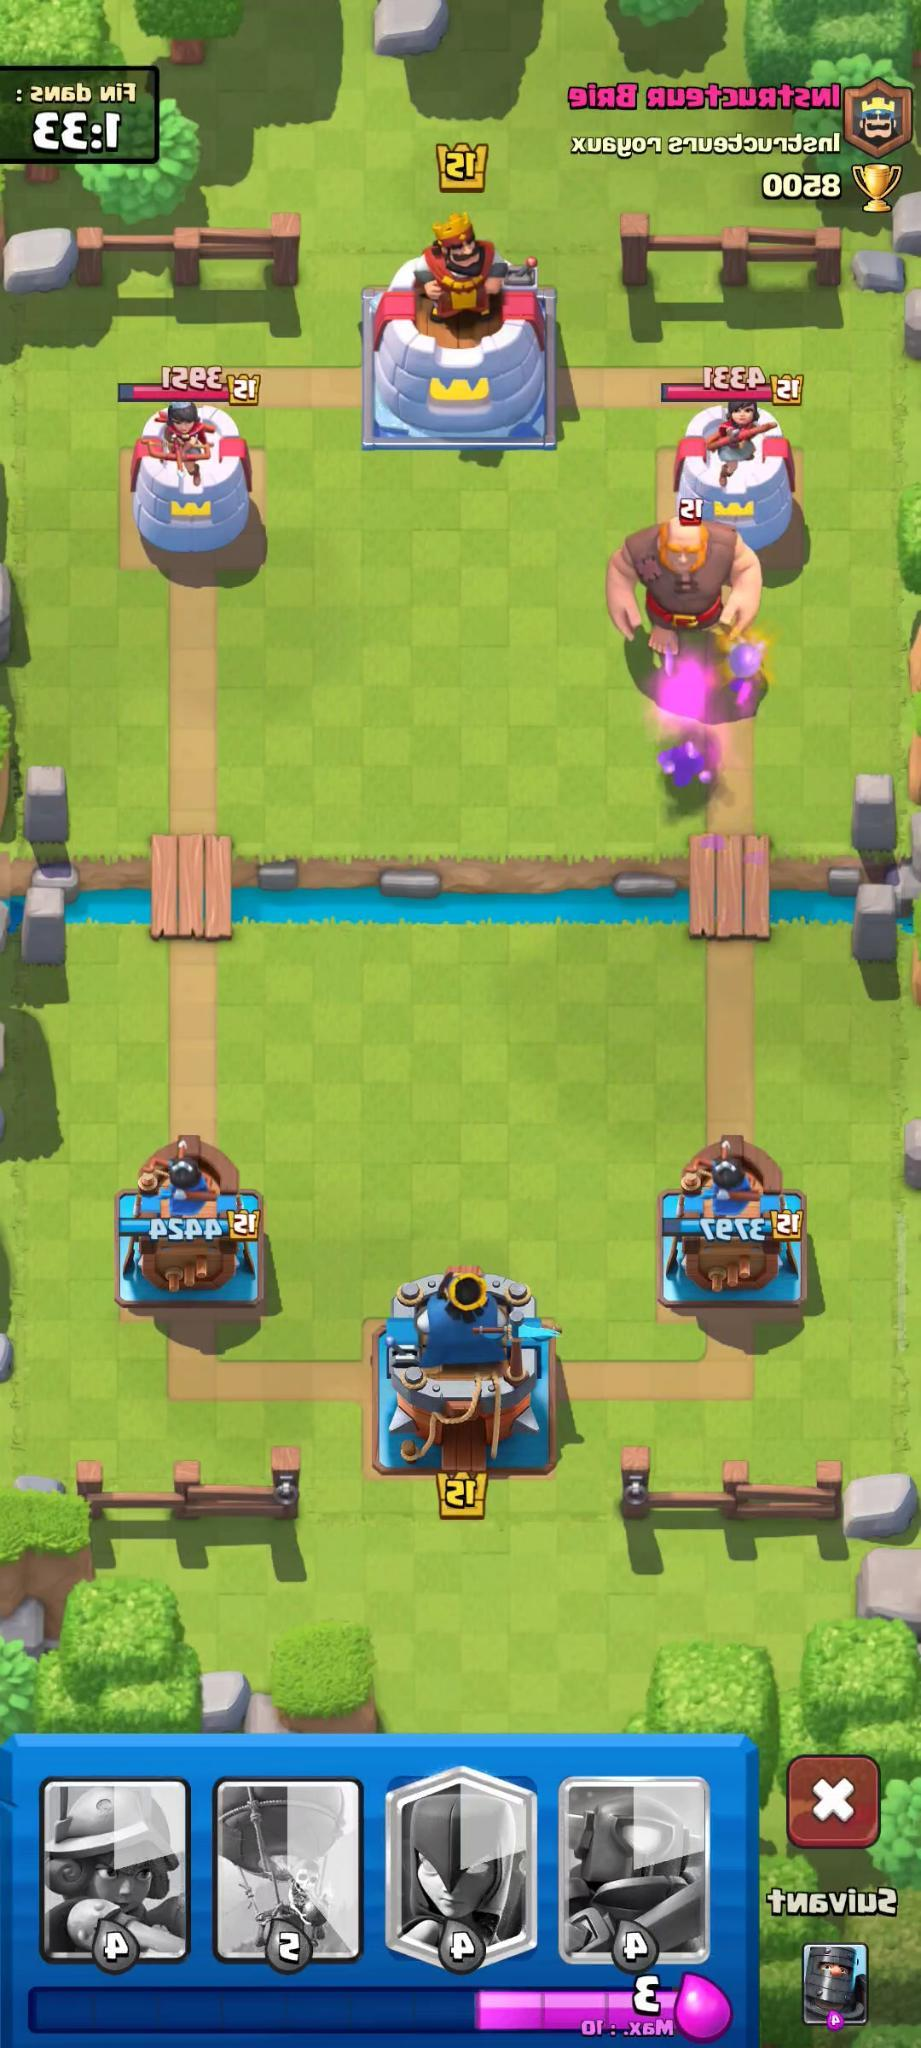enemy_giant: (598, 503, 766, 669)
